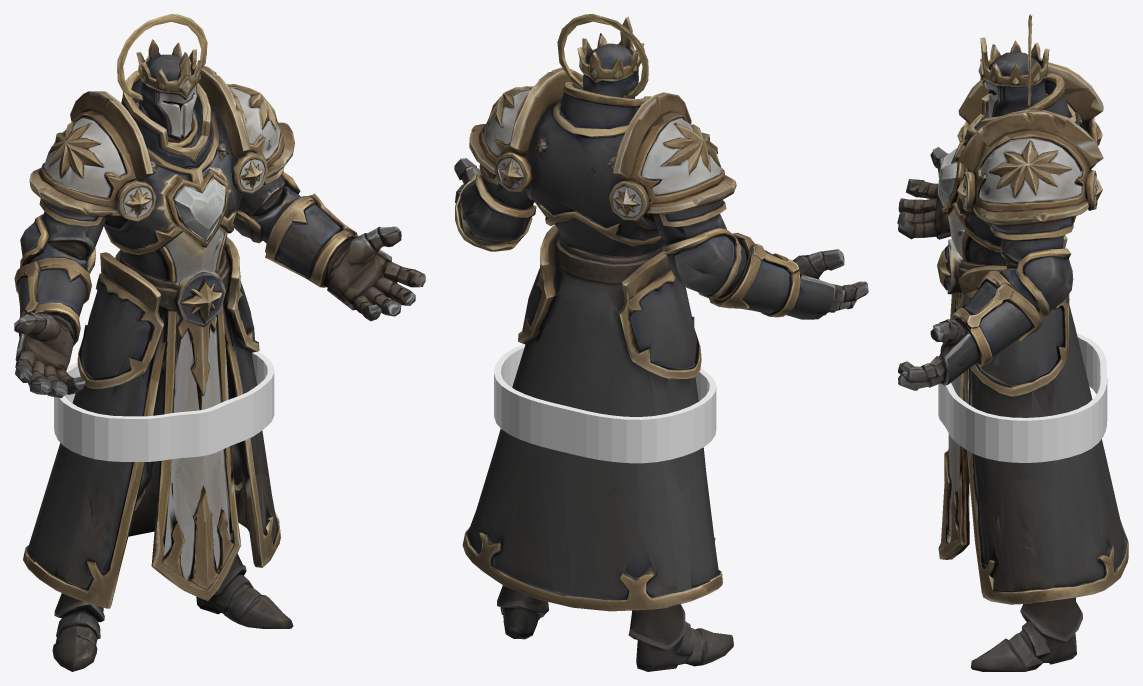
File: starborn_archon.glb
The picture shows the model from 3 angles, left to right: view 1: azimuth 30°, elevation 25°; view 2: azimuth 150°, elevation 25°; view 3: azimuth 270°, elevation 25°; orthographic projection. The views are drawn at different scales.
Visible parts, largest first — view 1: starborn_archon, Team_band; view 2: starborn_archon, Team_band; view 3: starborn_archon, Team_band.
Part boxes in pixels (x1=…): starborn_archon: x1=14, y1=14, x2=425, y2=671; Team_band: x1=54, y1=351, x2=274, y2=461; starborn_archon: x1=454, y1=14, x2=868, y2=671; Team_band: x1=494, y1=344, x2=716, y2=463; starborn_archon: x1=897, y1=14, x2=1128, y2=671; Team_band: x1=938, y1=333, x2=1107, y2=462.
Bounding box in the file's own units: 0.6738 × 0.9789 × 0.3399.
Materials: 2 (1 with a texture image).
